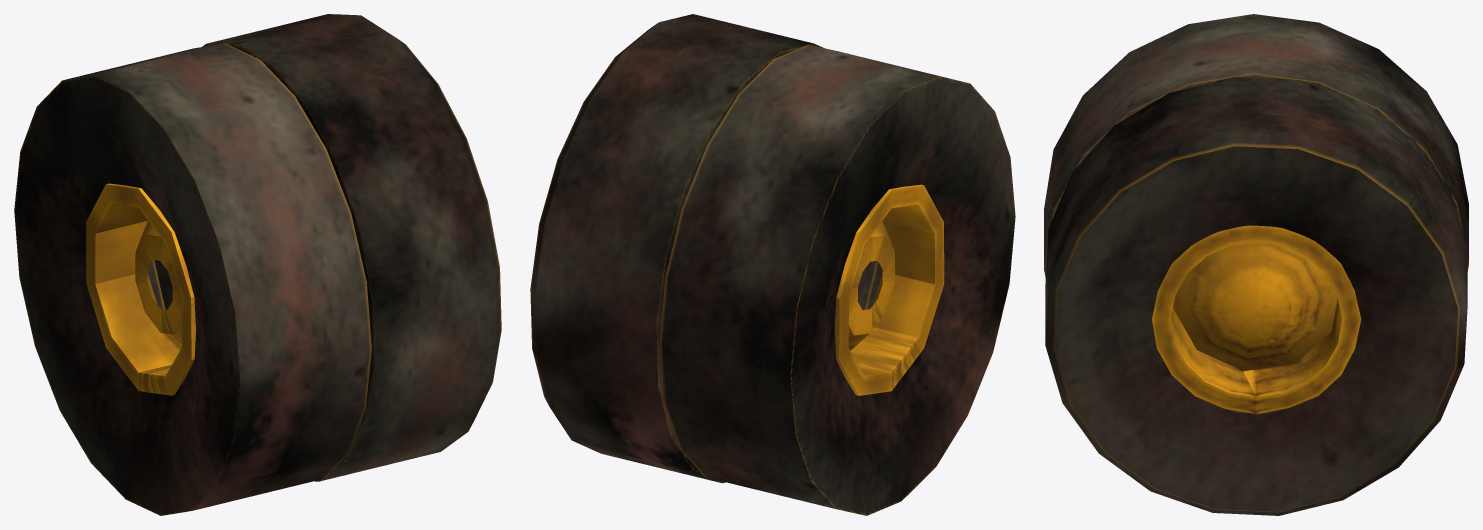
File: Wheel BL Caterpillar.fbx
3 views of the same model, side by side, from view 1: azimuth 30°, elevation 25°; view 2: azimuth 150°, elevation 25°; view 3: azimuth 270°, elevation 25° (orthographic). The views are drawn at different scales.
Visible parts, largest first — view 1: Wheel BL Caterpillar; view 2: Wheel BL Caterpillar; view 3: Wheel BL Caterpillar.
Boxes of the visible parts, x1,y1,x2,y2 form: Wheel BL Caterpillar: (14,14,501,515); Wheel BL Caterpillar: (530,14,1015,515); Wheel BL Caterpillar: (1044,14,1468,515).
Size of the model in its own units: 2.23 by 3.24 by 3.24.
